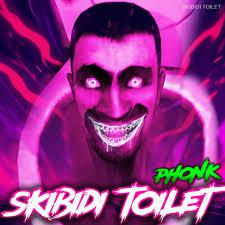skibidi-toilet: (70, 4, 164, 158)
